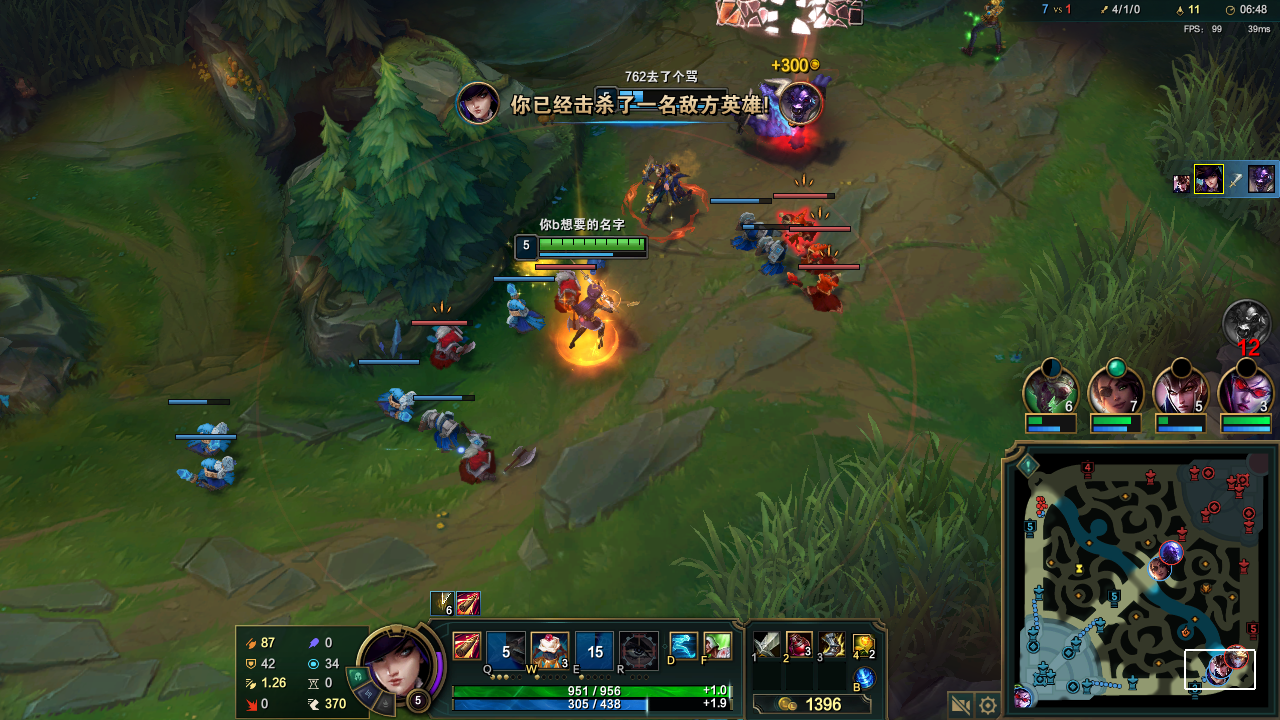DFXB: (422, 329, 476, 371), (781, 208, 815, 241), (812, 276, 839, 311), (559, 275, 578, 309), (805, 247, 832, 269)
WFXB: (493, 281, 539, 343), (425, 409, 471, 449), (177, 460, 232, 489), (190, 412, 232, 448), (379, 385, 412, 418), (756, 238, 787, 273), (733, 213, 757, 243)
